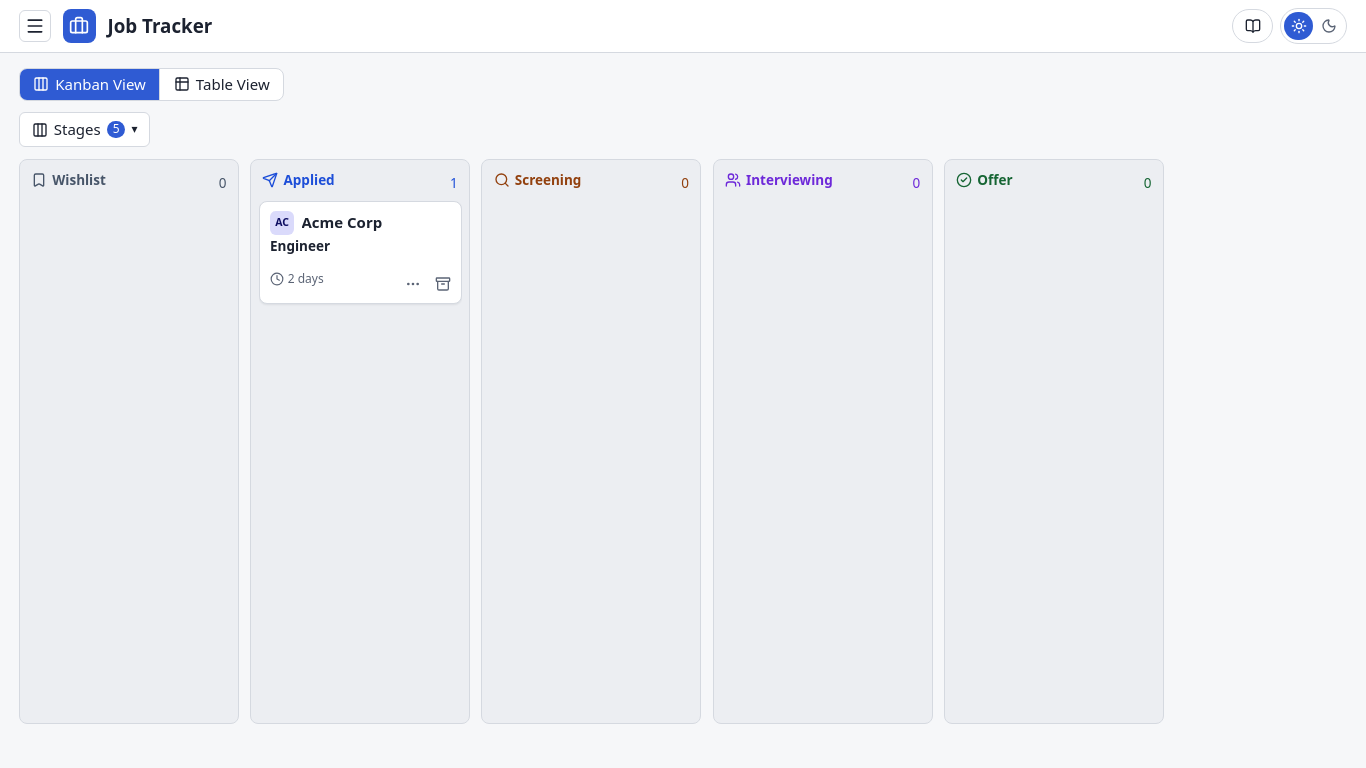
Test case: the sidebar on a narrow screen (spec 014, AC-8, AC-9, AC-10) › closes with the menu button, and focus stays on it (AC-9)
The width and height of the screenshot is (1366, 768).
Expected: the button "AC Acme Corp Engineer 2 days" is shown, 258,201 -> 462,304
What coordinates should you click on to do the following:
click the button named "Menu"
I would click on:
 (35, 26)
Its box is 19,10 -> 51,42.
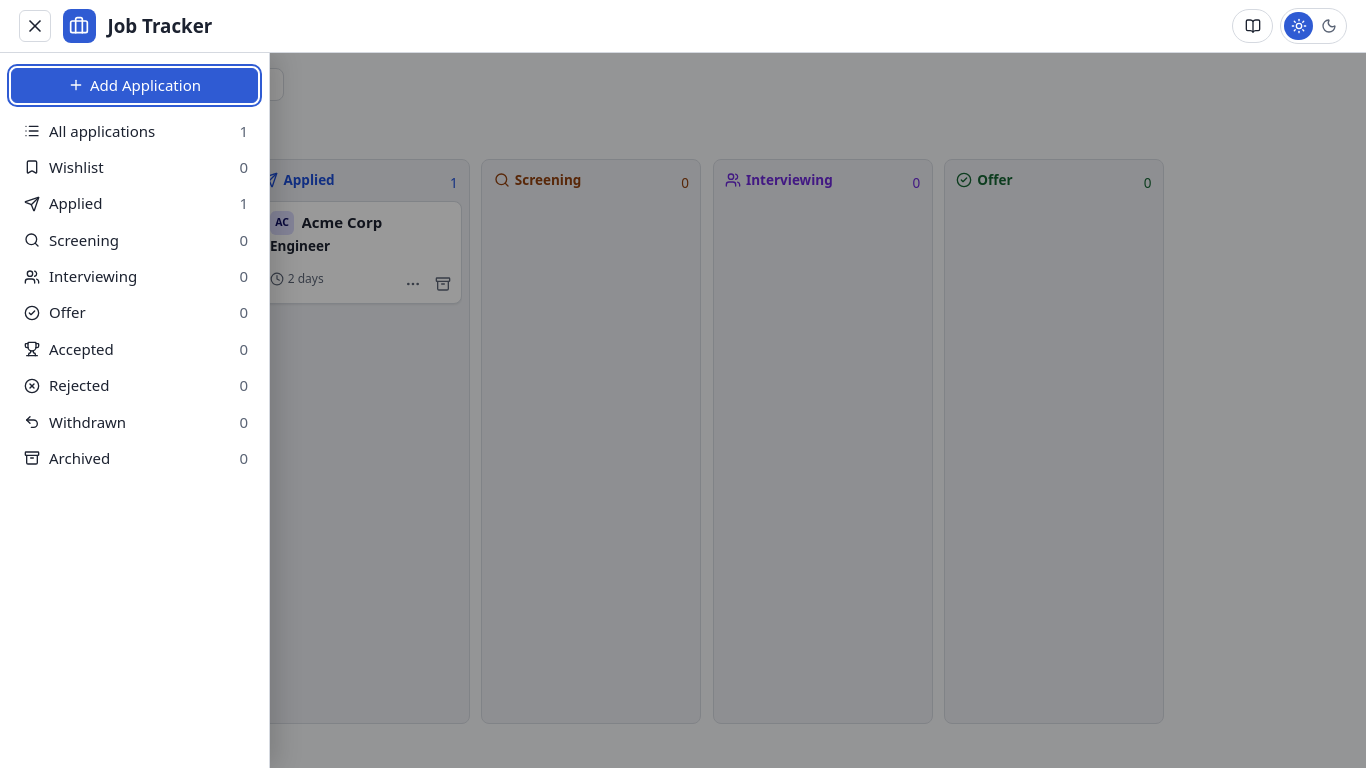
What coordinates should you click on to do the following:
click the button named "Menu"
I would click on:
 (35, 26)
Its box is 19,10 -> 51,42.
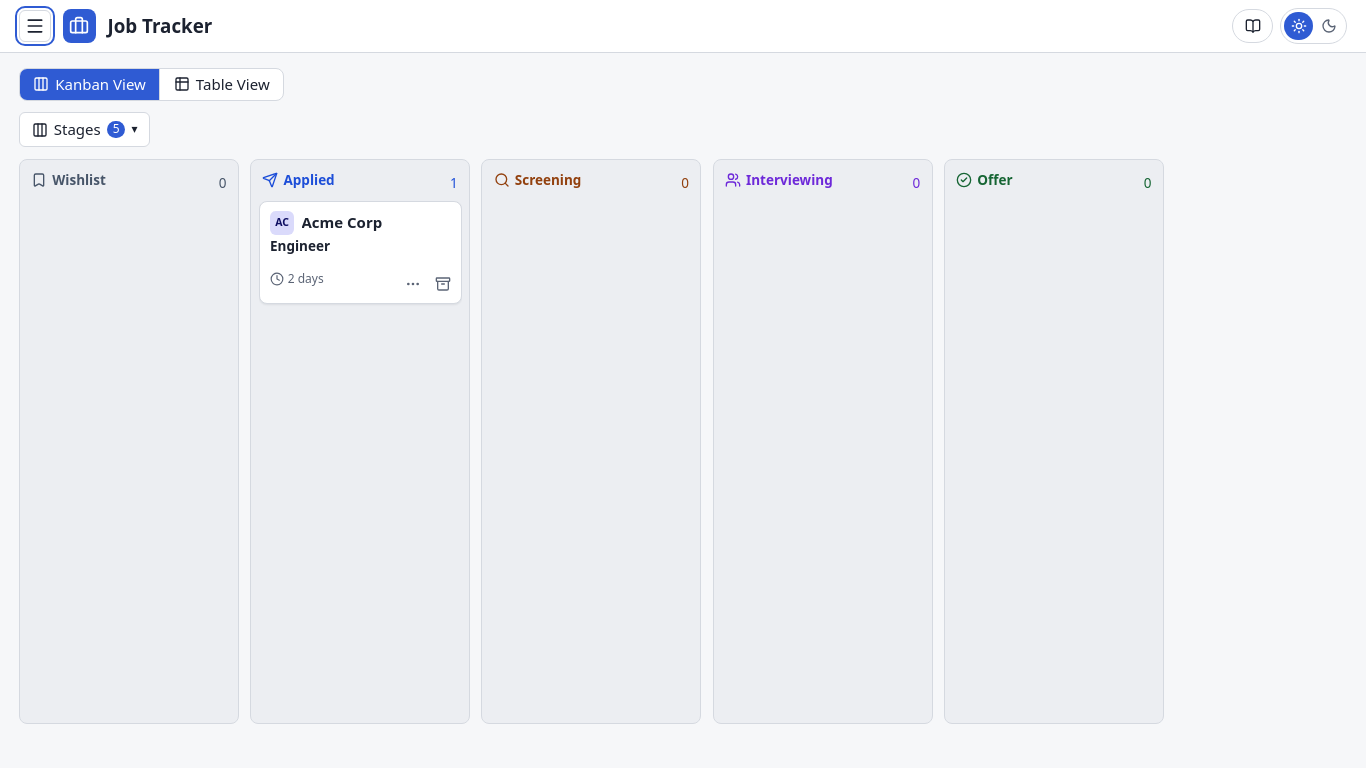
Expected: the button named "Menu" is collapsed, 19,10 -> 51,42
